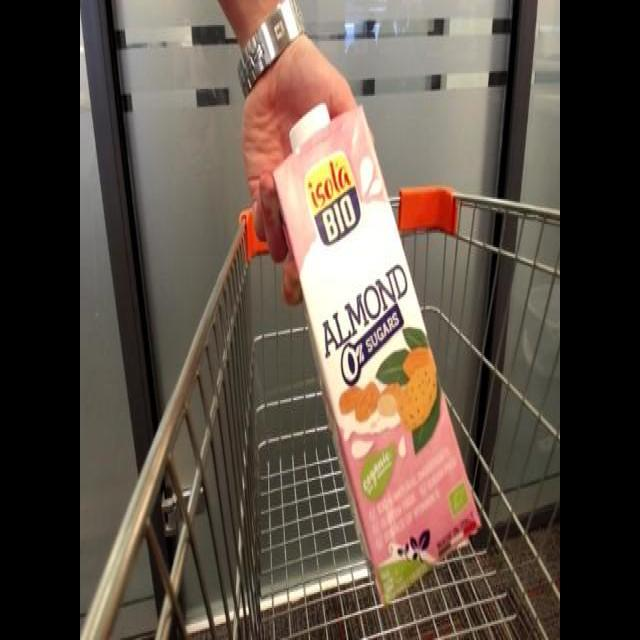Almond Milk: (264, 96, 487, 613)
